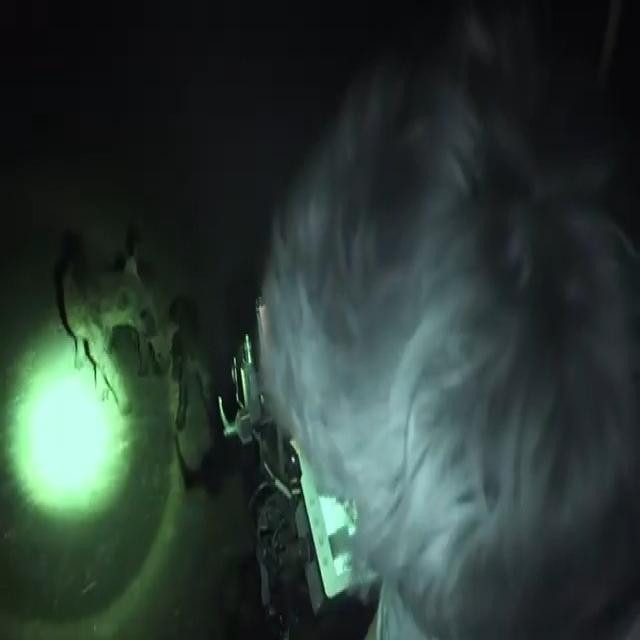animal: (56, 204, 230, 497)
human: (250, 47, 640, 629)
